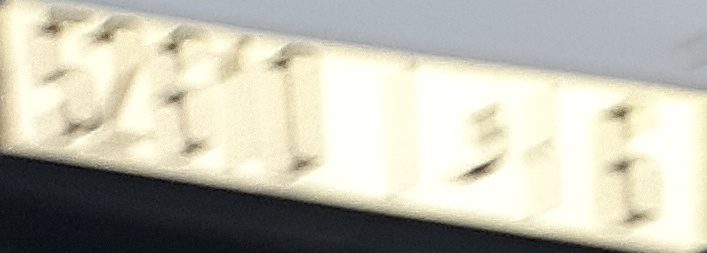2: (95, 14, 158, 148)
5: (42, 12, 103, 142)
waw: (442, 102, 509, 188)
